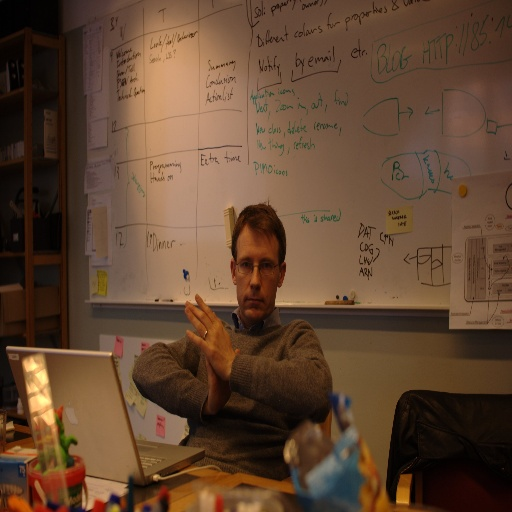hand: (175, 300, 241, 395), (205, 348, 242, 417)
